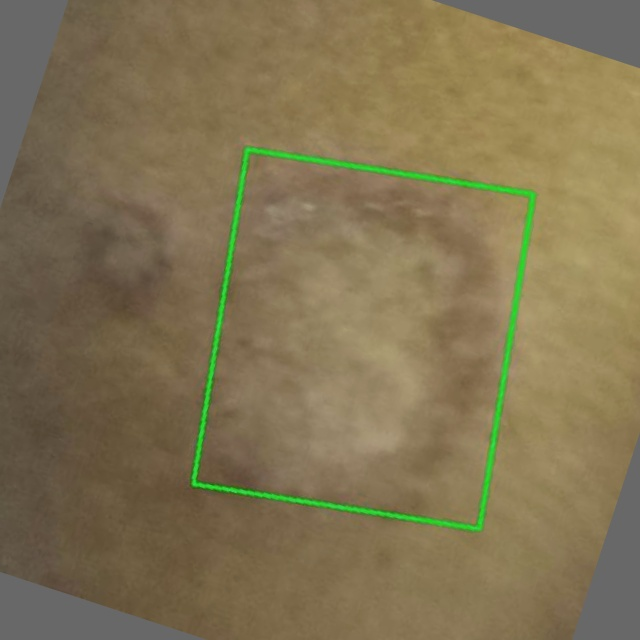Tinea Corporis: (193, 149, 532, 529)
